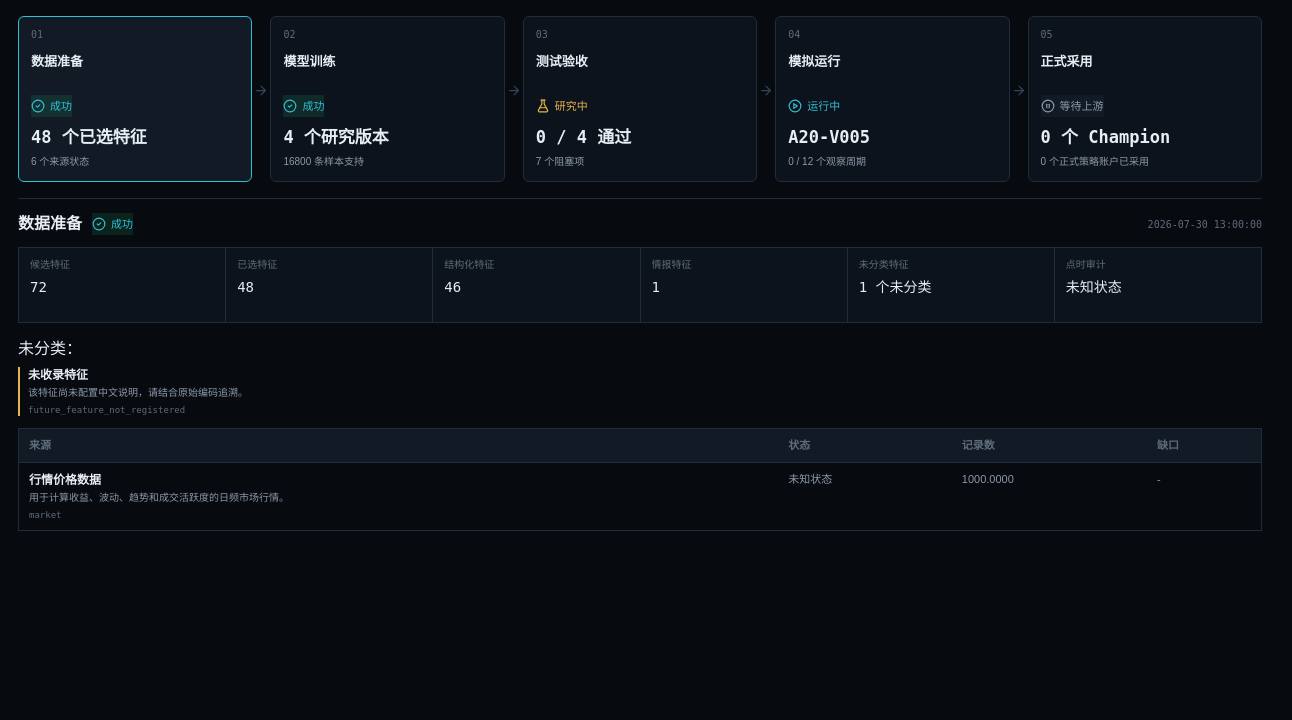
ModelResearchPage › safely labels unknown internal statuses across model details
The image size is (1292, 720).
Expected: the text "未知状态" is shown 2 times, left=1066, top=278, right=1122, bottom=294; left=778, top=463, right=952, bottom=530
Step 1. Click the button "02 模型训练 成功 4 个研究版本 16800 条样本支持" → click(388, 99), box left=270, top=16, right=505, bottom=182
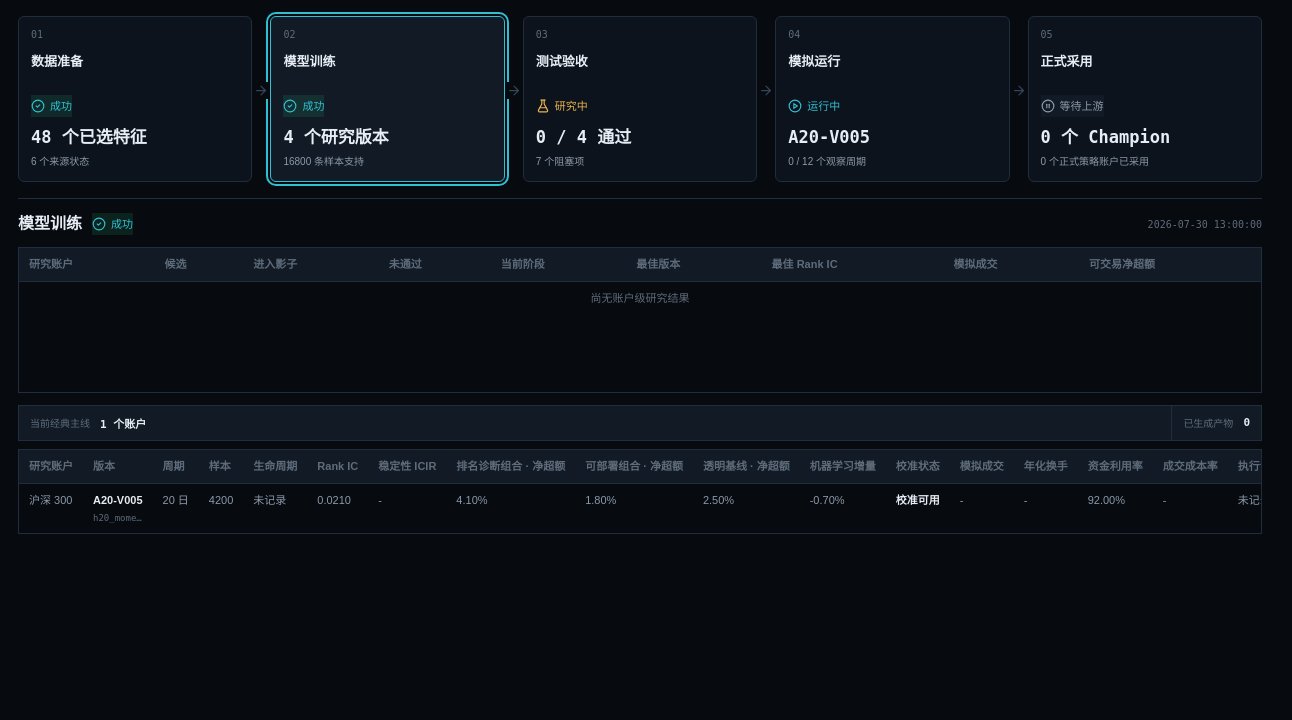
Expected: the element named "模型训练详情" does not show "artifact_uploaded_v2", left=18, top=198, right=1262, bottom=534
Step 2. Click the button "04 模拟运行 运行中 A20-V005 0 / 12 个观察周期" → click(892, 99), box left=775, top=16, right=1010, bottom=182
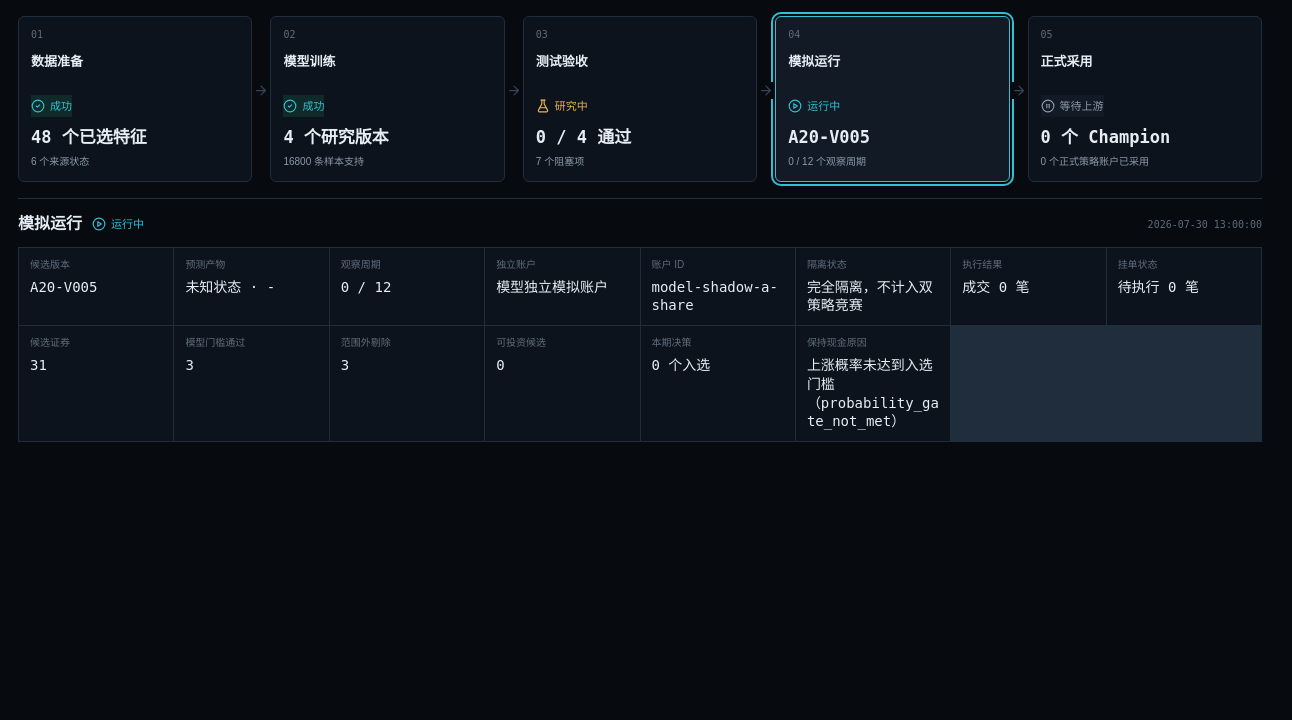
Expected: the element named "模拟运行详情" does not show "prediction_queued_v2", left=18, top=198, right=1262, bottom=442
Step 3. Click the button "05 正式采用 等待上游 0 个 Champion 0 个正式策略账户已采用" → click(1145, 99), box left=1028, top=16, right=1262, bottom=182
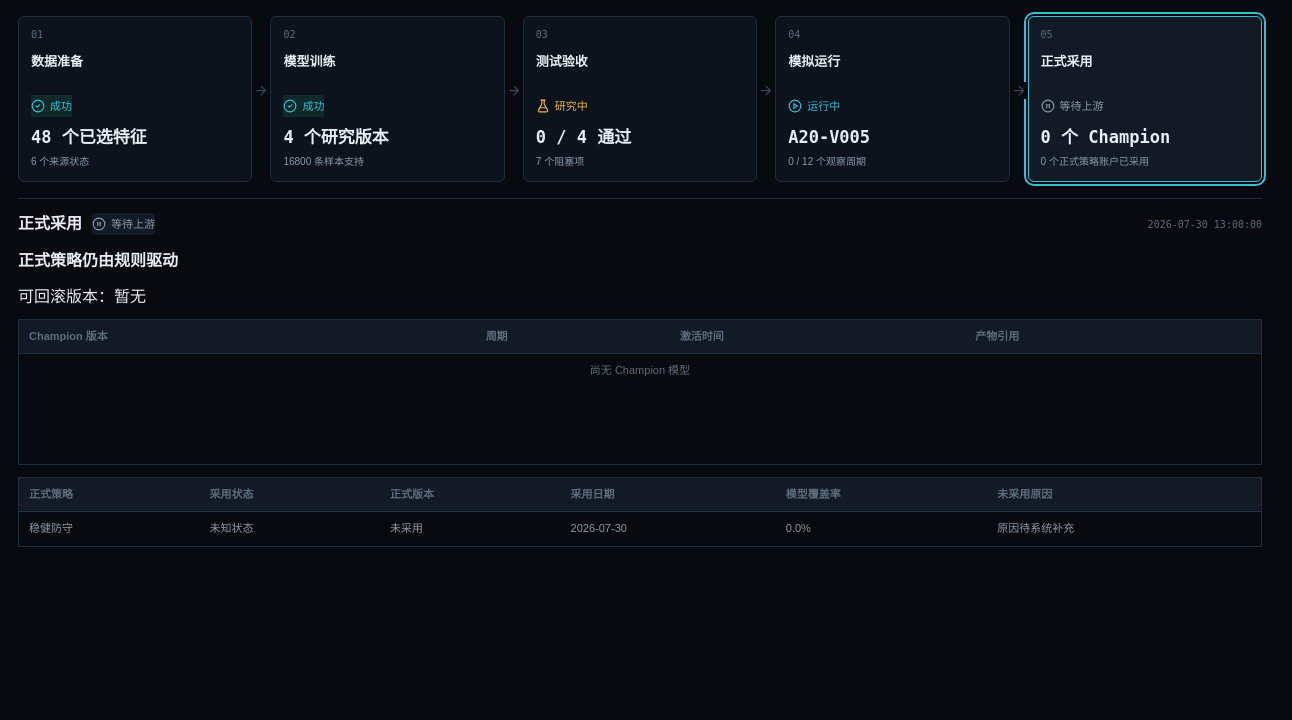
Now the text "未知状态" is shown, box left=200, top=512, right=380, bottom=546
Now the text "原因待系统补充" is shown, box left=987, top=512, right=1261, bottom=546
